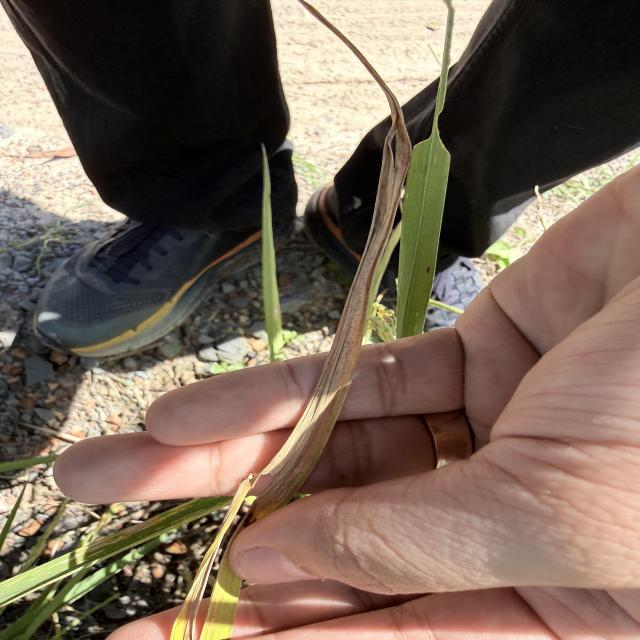Chay bia la: (181, 0, 414, 640)
